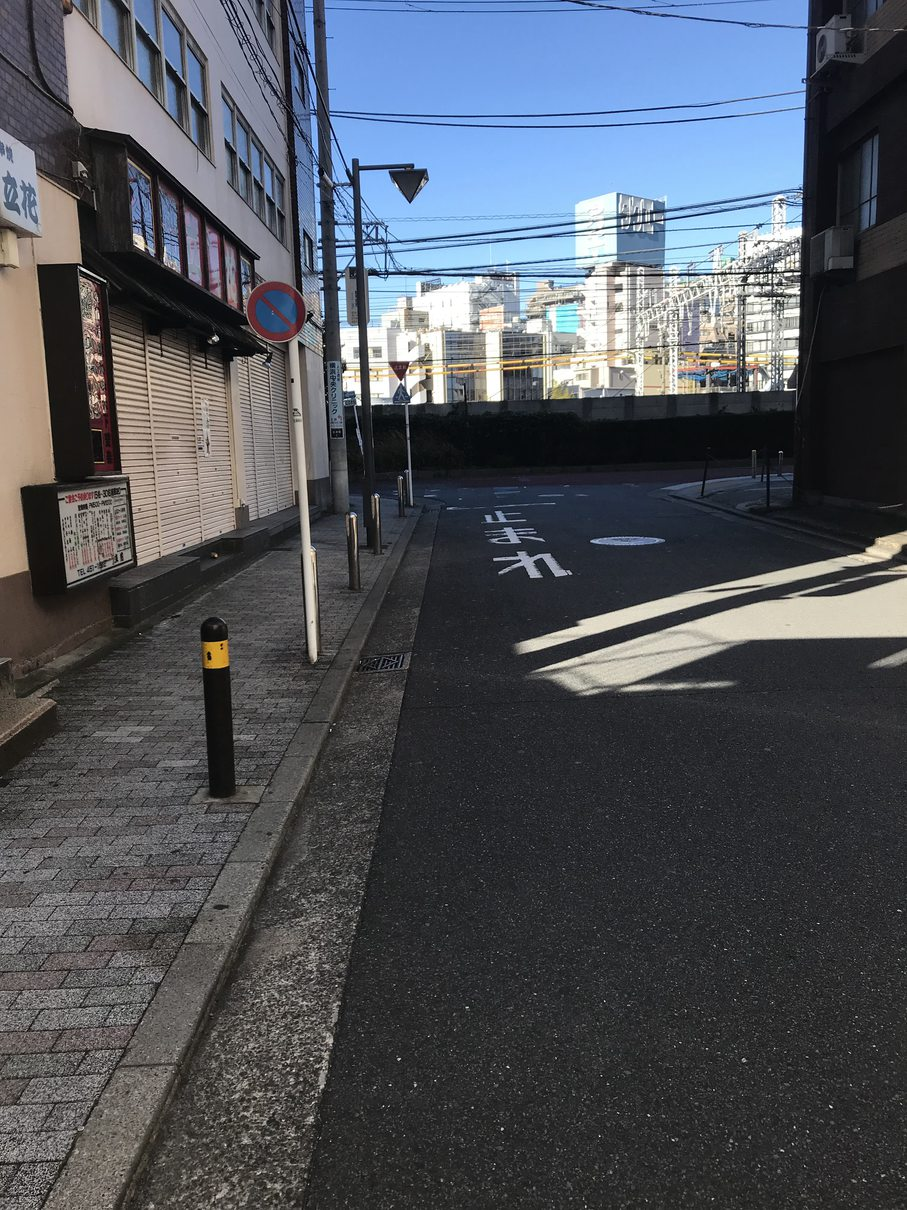stop_sign: (387, 359, 410, 380)
